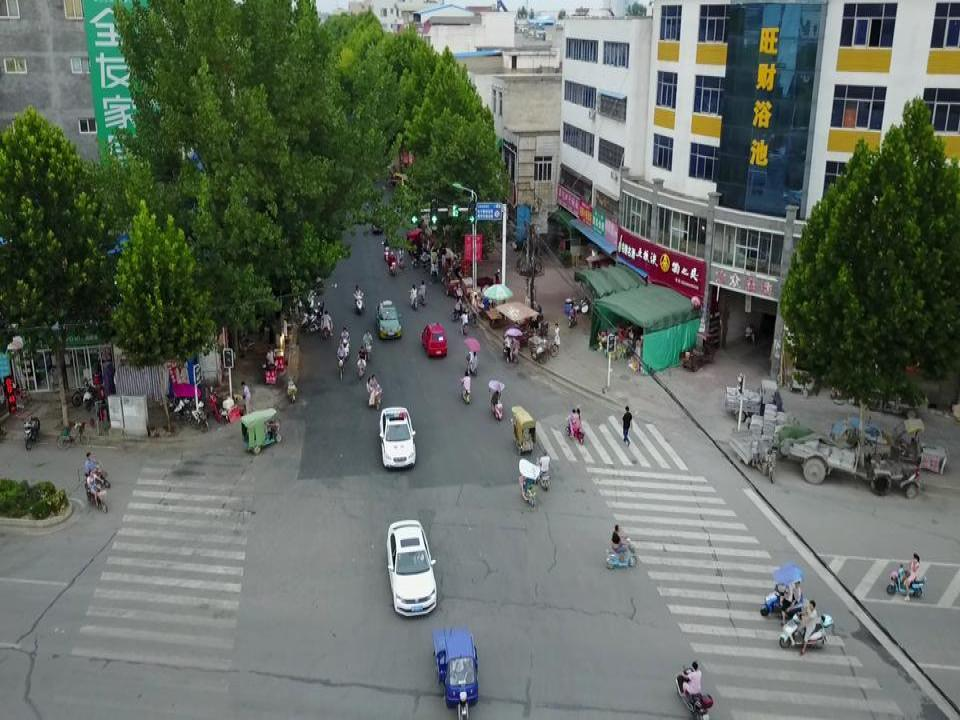car: (386, 519, 437, 620), (378, 407, 416, 468), (374, 299, 403, 340), (420, 321, 447, 360), (371, 208, 383, 232)
truck: (727, 379, 785, 424)
